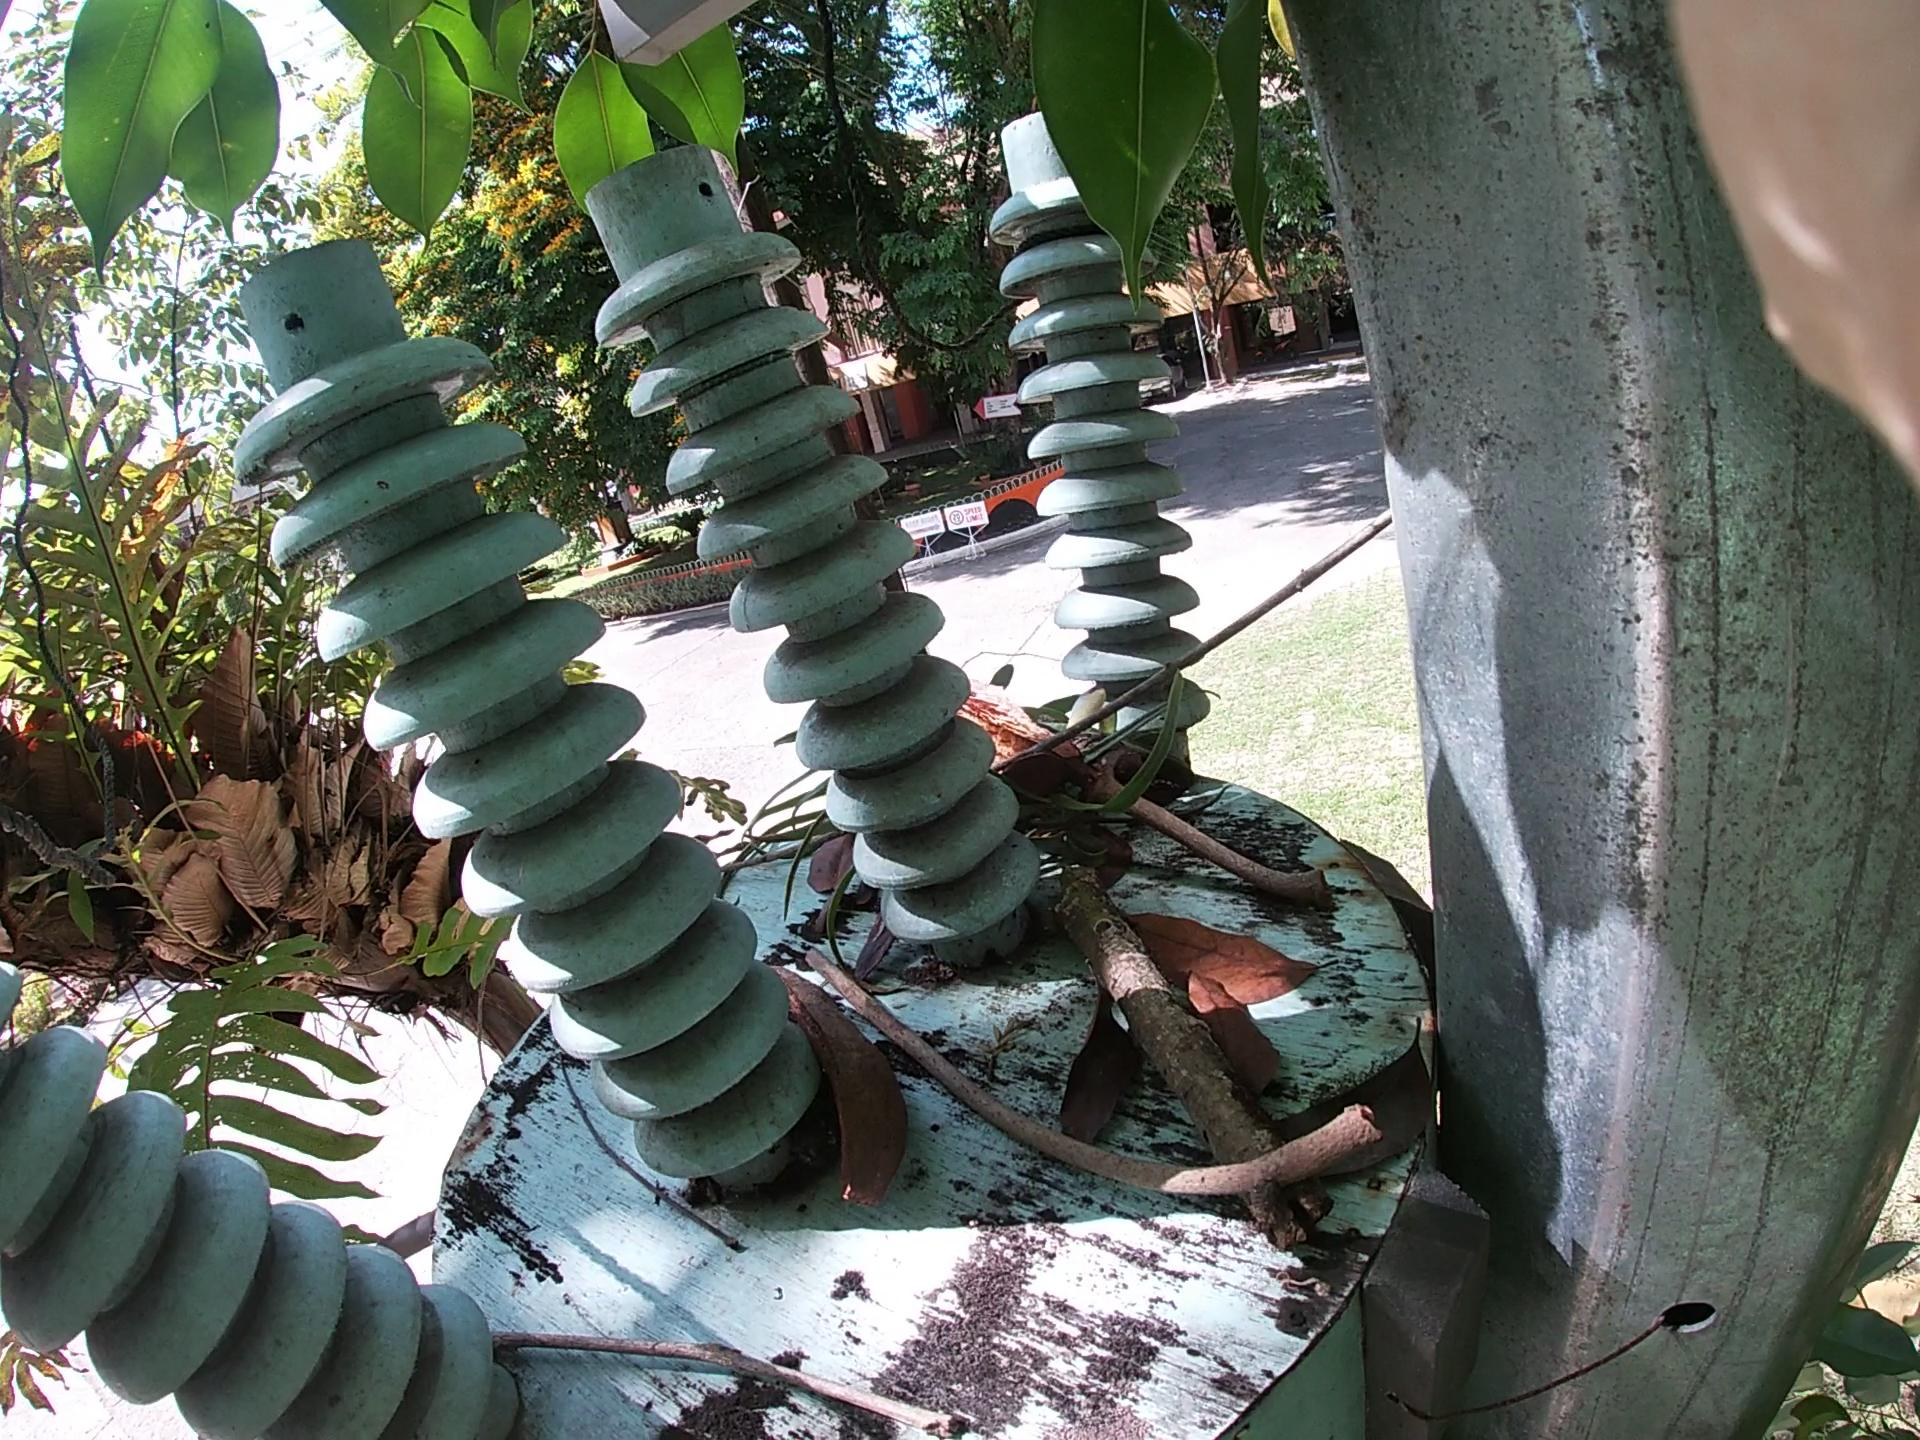branch with leaves: (930, 626, 1336, 1175)
leaf: (1030, 852, 1317, 1085)
tree branch: (1043, 431, 1541, 817), (845, 970, 1377, 1227), (890, 632, 1350, 914), (522, 1271, 865, 1395)
